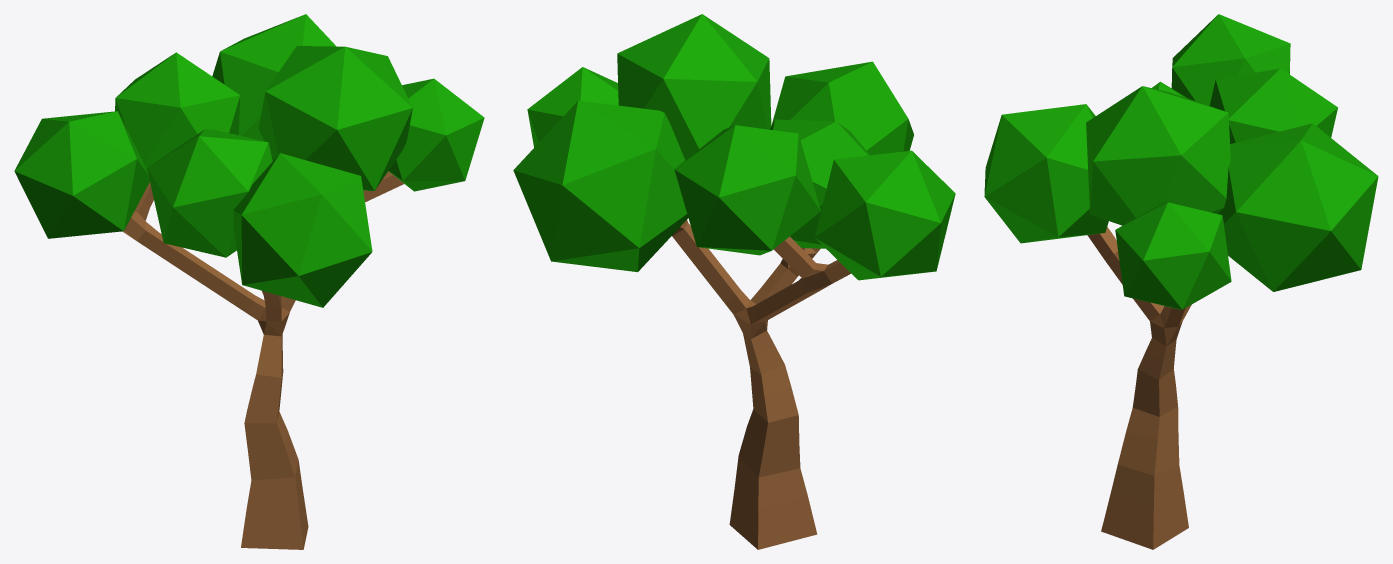
Rendered from Tree for Carson V3.fbx.
3 renders of one model, left to right at view 1: azimuth 30°, elevation 25°; view 2: azimuth 150°, elevation 25°; view 3: azimuth 270°, elevation 25°, orthographic. The views are drawn at different scales.
Parts seen in each view (by area): view 1: Icosphere.003, Icosphere.002, Cube, Icosphere.007, Icosphere.004, Icosphere.005, Icosphere, Icosphere.001; view 2: Icosphere.001, Cube, Icosphere.002, Icosphere.005, Icosphere.007, Icosphere.003, Icosphere.004, Icosphere; view 3: Icosphere.001, Icosphere.002, Cube, Icosphere.003, Icosphere, Icosphere.005, Icosphere.007.
Part boxes in pixels (left/top/right/bottom): Icosphere.003: left=233, top=153, right=372, bottom=307; Icosphere.002: left=258, top=46, right=412, bottom=190; Cube: left=122, top=171, right=404, bottom=549; Icosphere.007: left=14, top=111, right=149, bottom=238; Icosphere.004: left=147, top=129, right=272, bottom=257; Icosphere.005: left=115, top=52, right=240, bottom=170; Icosphere: left=388, top=78, right=484, bottom=191; Icosphere.001: left=212, top=14, right=336, bottom=160; Icosphere.001: left=513, top=100, right=688, bottom=272; Cube: left=672, top=219, right=850, bottom=549; Icosphere.002: left=617, top=14, right=771, bottom=159; Icosphere.005: left=674, top=125, right=820, bottom=255; Icosphere.007: left=814, top=150, right=955, bottom=280; Icosphere.003: left=771, top=61, right=913, bottom=155; Icosphere.004: left=770, top=119, right=869, bottom=248; Icosphere: left=527, top=67, right=618, bottom=147; Icosphere.001: left=1218, top=123, right=1378, bottom=291; Icosphere.002: left=1086, top=86, right=1230, bottom=225; Cube: left=1087, top=227, right=1191, bottom=549; Icosphere.003: left=984, top=104, right=1108, bottom=243; Icosphere: left=1115, top=202, right=1231, bottom=309; Icosphere.005: left=1209, top=68, right=1337, bottom=143; Icosphere.007: left=1171, top=14, right=1290, bottom=105.
Bounding box in the file's own units: 659 × 715 × 533.
